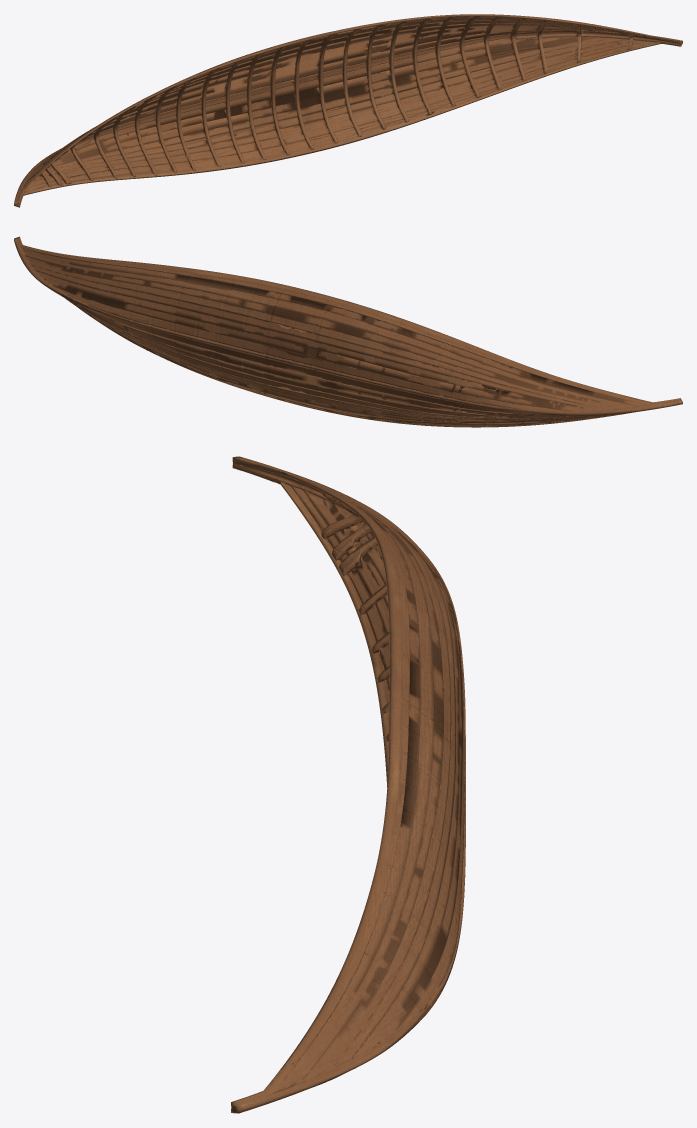
File: SuttonHooShip04.glb
3 views of the same model, one above another, from view 1: azimuth 30°, elevation 25°; view 2: azimuth 150°, elevation 25°; view 3: azimuth 270°, elevation 25° (orthographic). The views are drawn at different scales.
Bounding box in the file's own units: 2 × 0.3316 × 0.3043.
Materials: 1 (1 with a texture image).
